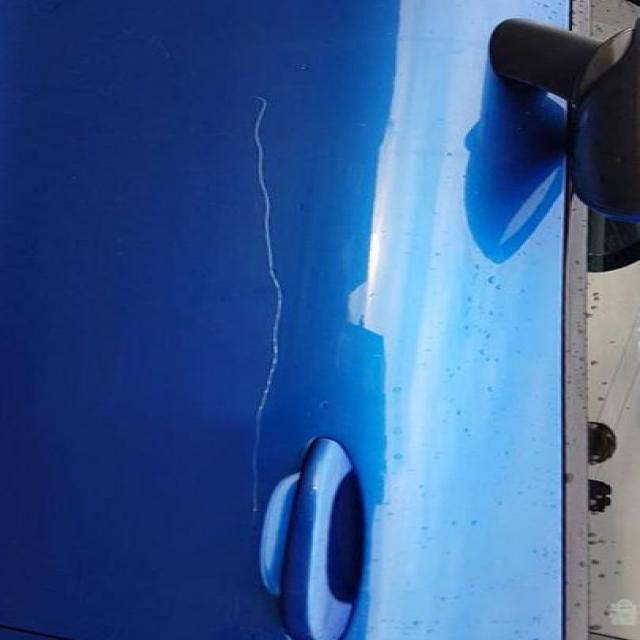scratch: (231, 84, 309, 536)
